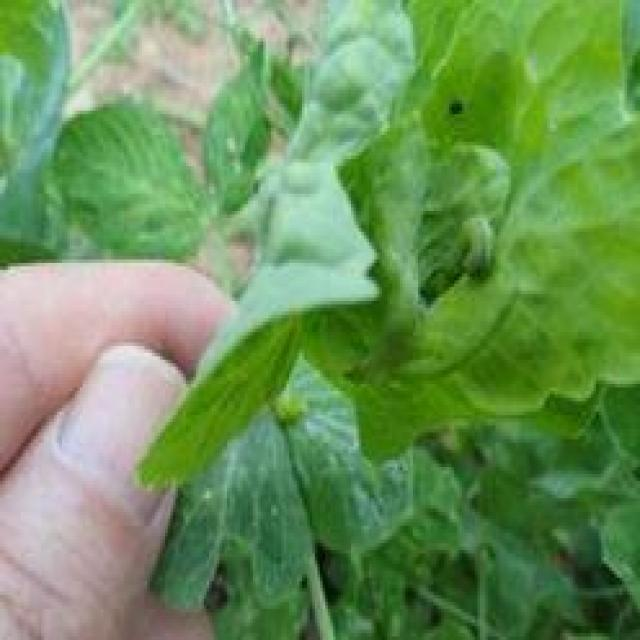BeetArmyWorm-Larva-: (426, 214, 501, 298)
